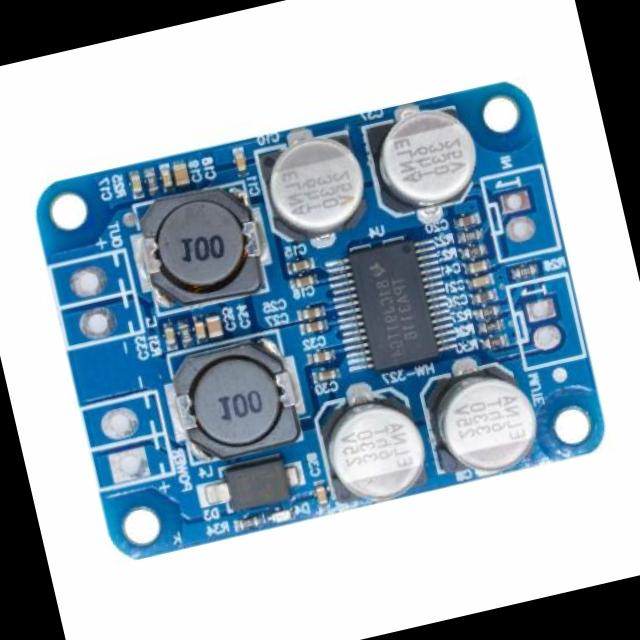IC: (337, 235, 449, 379)
LED: (268, 505, 295, 526)
capacitor: (424, 361, 552, 488), (364, 101, 485, 219), (256, 125, 370, 243), (320, 391, 434, 506), (170, 160, 190, 187), (203, 314, 225, 338), (128, 172, 146, 196), (158, 164, 175, 189), (232, 150, 250, 173), (289, 258, 310, 275), (161, 327, 178, 348), (467, 259, 489, 275), (299, 304, 321, 320), (313, 486, 329, 508), (308, 349, 331, 364), (302, 318, 323, 334), (292, 274, 314, 289), (316, 367, 338, 382), (192, 320, 207, 342), (458, 212, 478, 228), (475, 290, 495, 304), (472, 274, 491, 288)
diode: (214, 450, 296, 517)
resistor: (235, 516, 260, 532), (144, 168, 159, 192), (178, 322, 194, 342), (513, 266, 535, 280), (487, 333, 504, 348), (466, 244, 484, 258), (478, 305, 496, 319), (462, 230, 480, 242), (484, 319, 499, 332)
